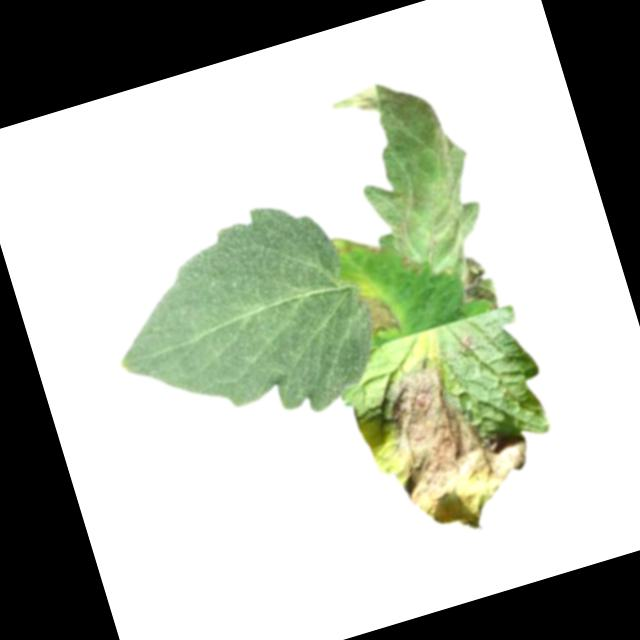Late_blight: (328, 55, 522, 297), (345, 341, 548, 558), (453, 250, 506, 315), (355, 284, 400, 337), (456, 331, 480, 356)
healthy: (87, 184, 391, 462)
